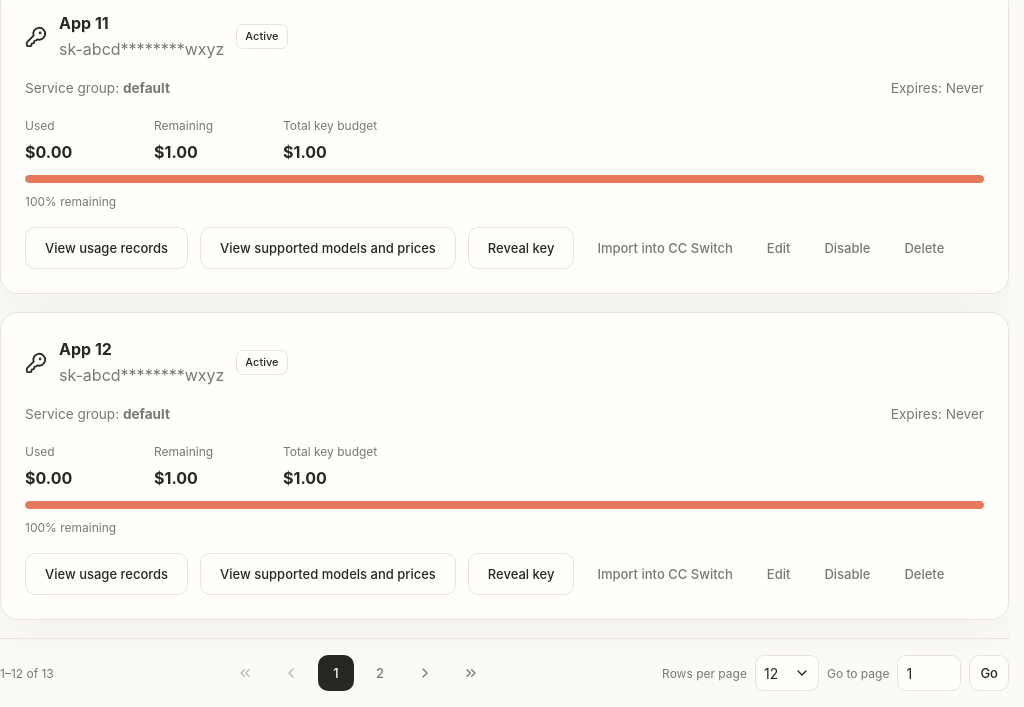
it: returns to the previous key page after deleting its last item
The width and height of the screenshot is (1024, 707).
(page scrolled)
Click the button named "Next page" at point(425, 673), box [406,655,444,691]
(page scrolled)
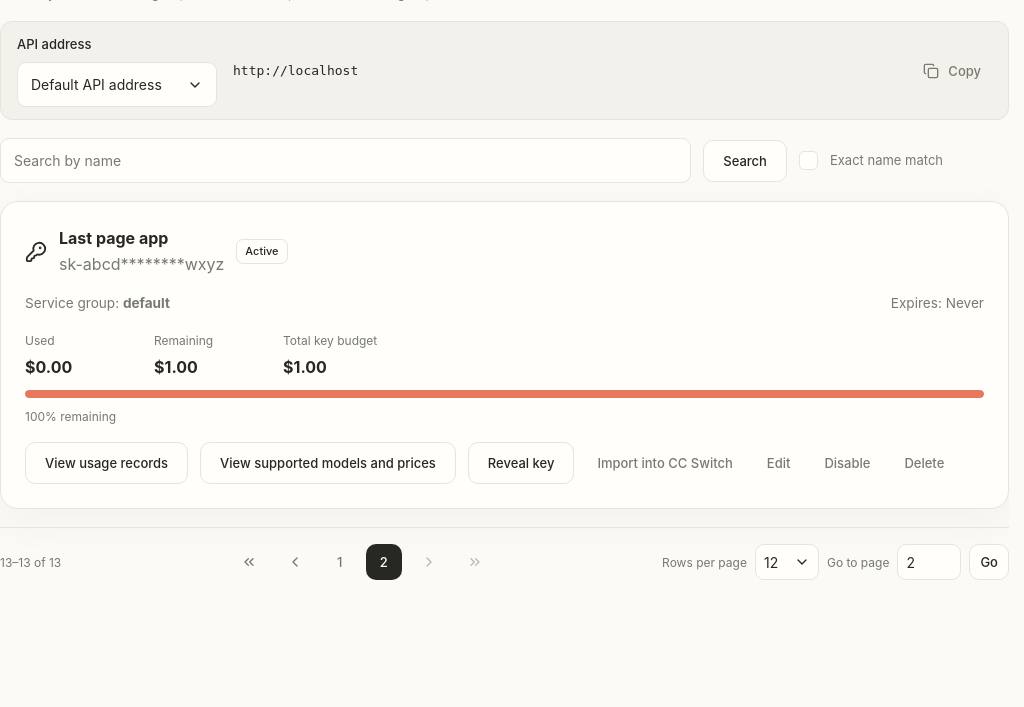
Now the text "Last page app" is shown, box [59,228,168,248]
Click the button "Delete" at point(924, 463), box [893,442,955,484]
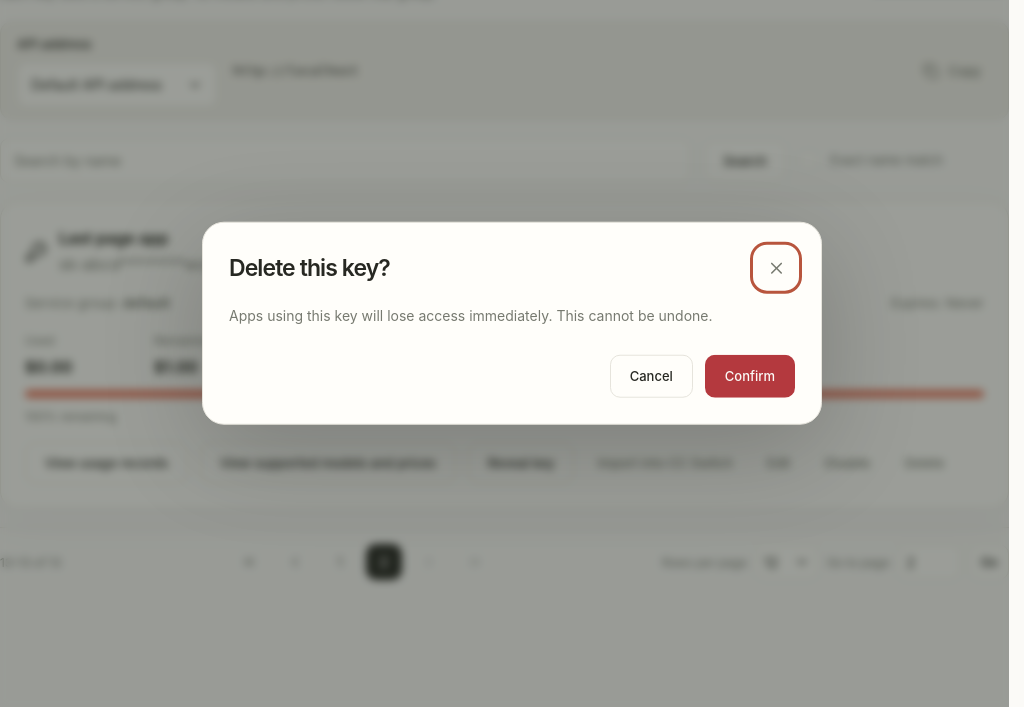
Click the button "Confirm" at point(750, 376), box [705,355,795,397]
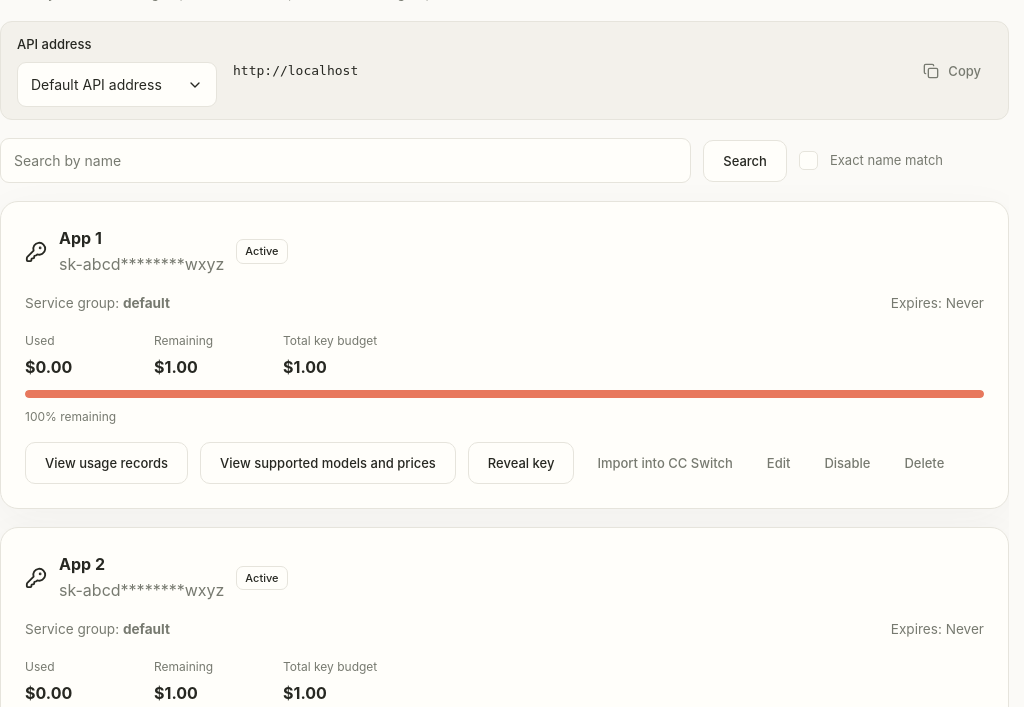
Now the text "App 1" is shown, box [59,228,102,248]
